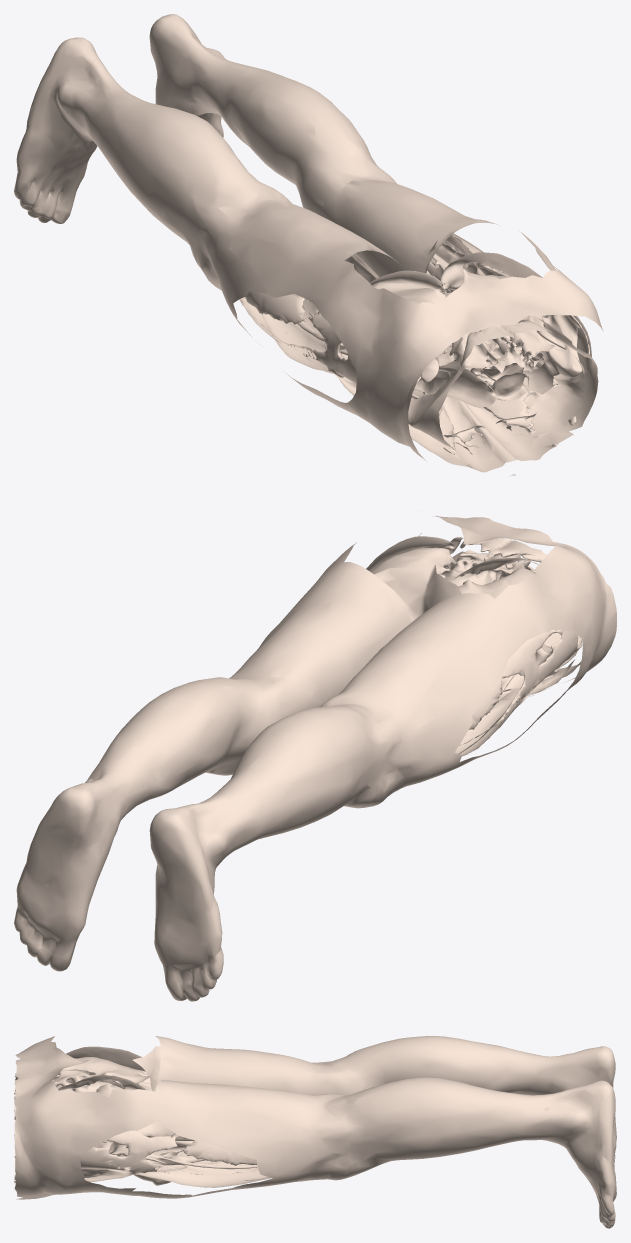
The model's file is lowerlimb__skin.333c8d7cfe.glb.
3 renders of one model, top to bottom at view 1: azimuth 30°, elevation 25°; view 2: azimuth 150°, elevation 25°; view 3: azimuth 270°, elevation 25°, orthographic. The views are drawn at different scales.
Visible parts, largest first — view 1: FMA7163; view 2: FMA7163; view 3: FMA7163.
Part boxes in pixels (x1,y1,x2,y2): FMA7163: (14, 14, 603, 475); FMA7163: (14, 515, 616, 1001); FMA7163: (14, 1036, 616, 1228).
Bounding box in the file's own units: 321 × 258 × 981.
